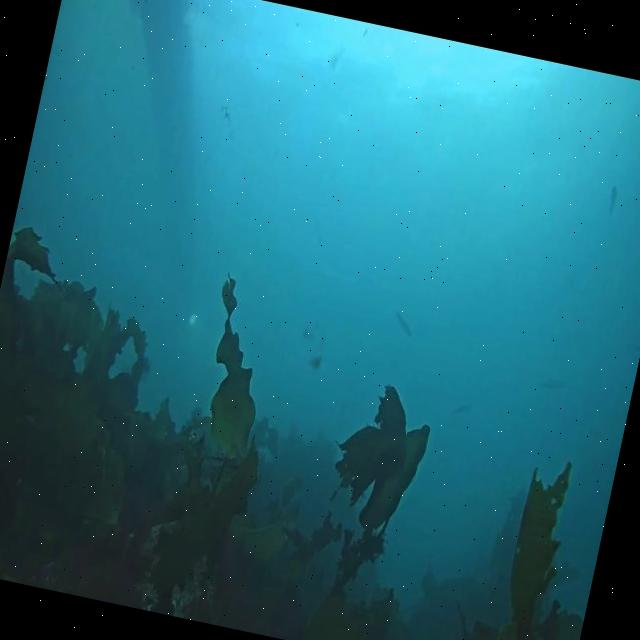fish: (391, 308, 414, 336), (604, 183, 620, 216)
